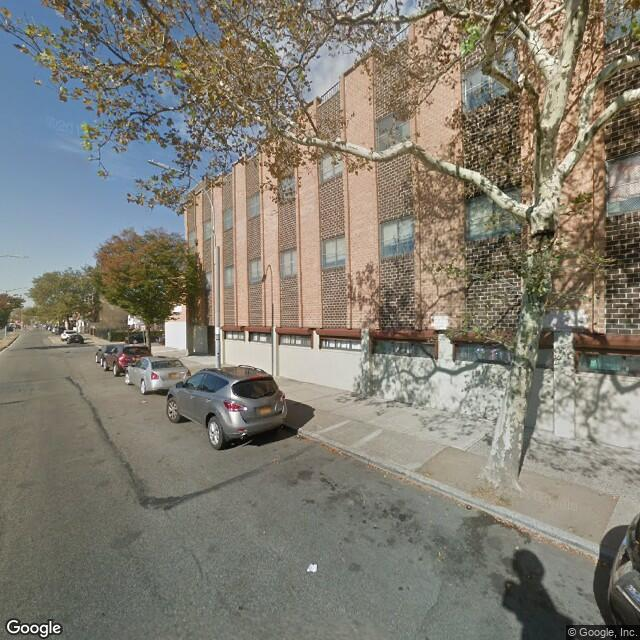litter: (305, 564, 317, 572), (140, 400, 146, 402)
